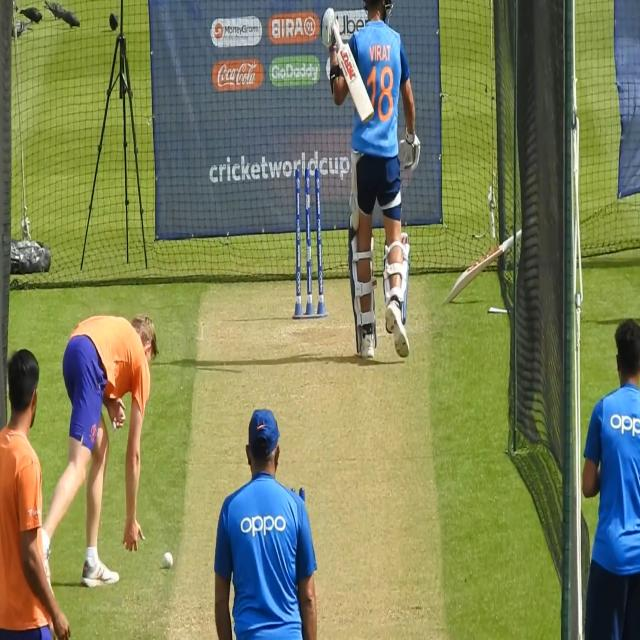ball: (160, 549, 177, 573)
stump: (293, 165, 327, 322)
